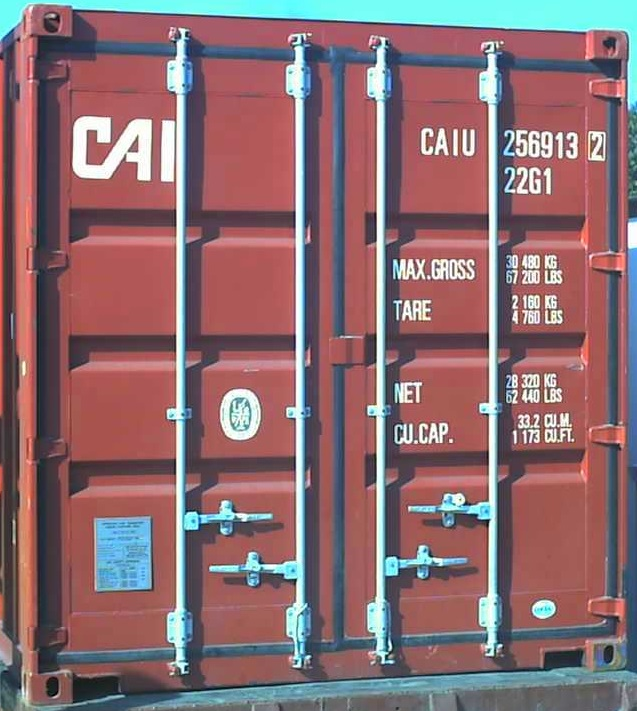container_door: (29, 5, 629, 697)
